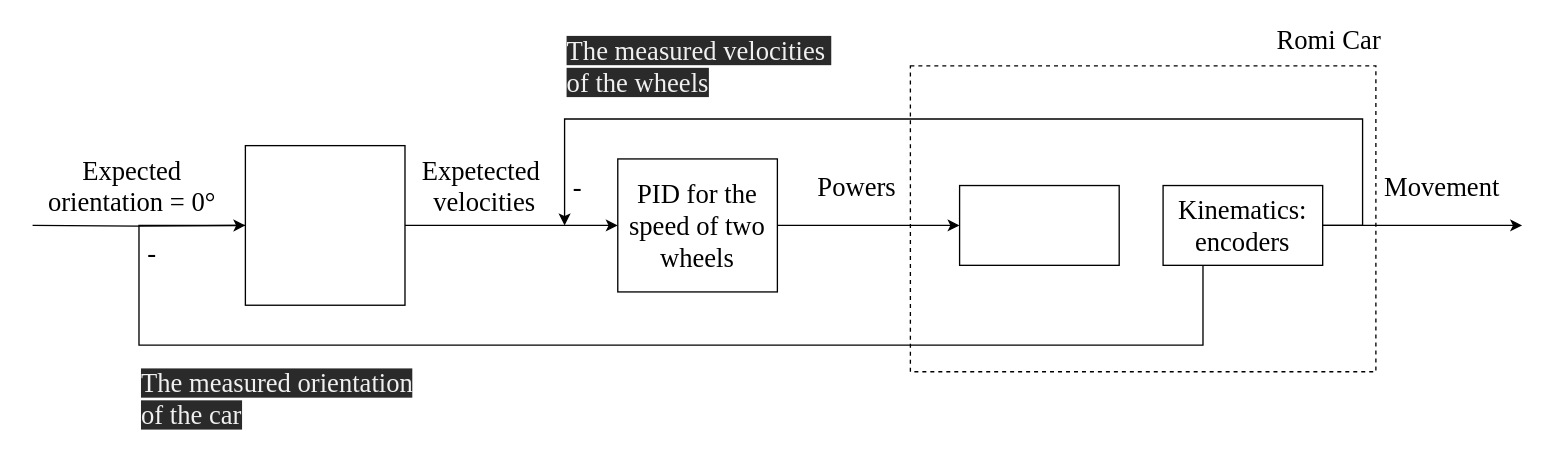
Image size: 1556x454. Some labels were removed from this diagram. Here are the shapes that lost their labels. From the top down, the box of each, then its label:
(244, 144, 405, 305): PID controller for the heading of linear motion
(958, 184, 1119, 265): Motors
